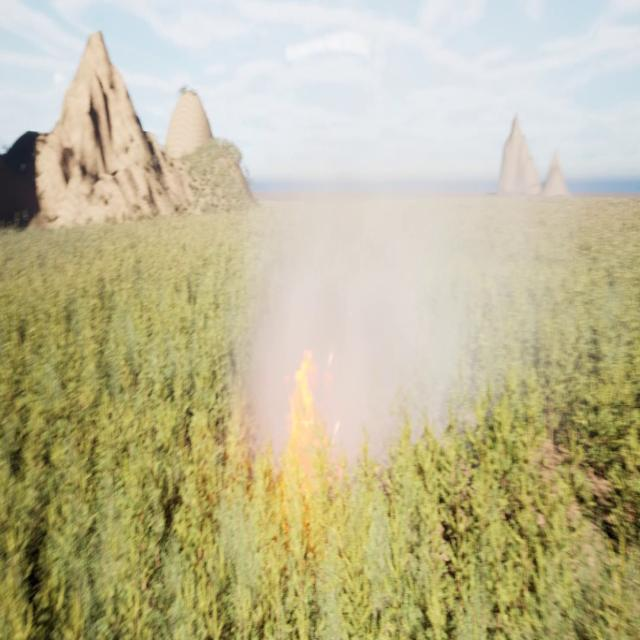fire: (281, 342, 343, 491)
smoke: (237, 110, 569, 487)
